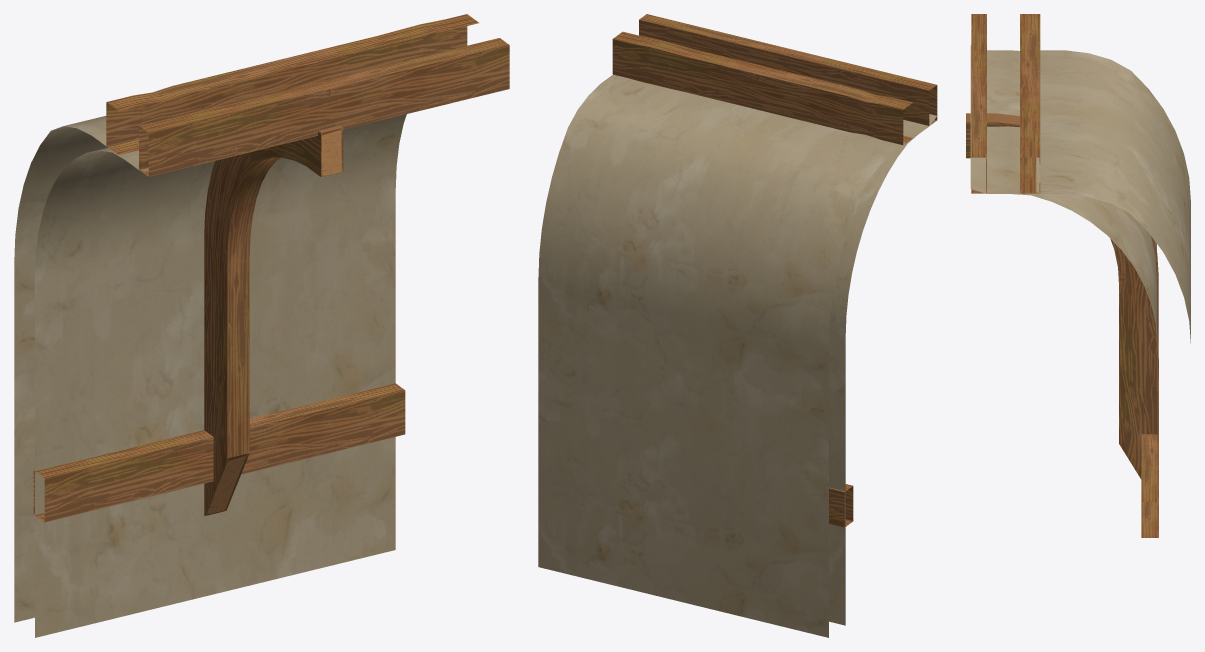
File: overhang_plaster_short.glb
3 views of the same model, side by side, from view 1: azimuth 30°, elevation 25°; view 2: azimuth 150°, elevation 25°; view 3: azimuth 270°, elevation 25° (orthographic). The views are drawn at different scales.
Parts seen in each view (by area): view 1: Overhang_Plaster_Short; view 2: Overhang_Plaster_Short; view 3: Overhang_Plaster_Short.
Boxes of the visible parts, <box> form: Overhang_Plaster_Short: <box>14,14,509,637</box>; Overhang_Plaster_Short: <box>538,14,937,637</box>; Overhang_Plaster_Short: <box>966,14,1190,537</box>.
Size of the model in its own units: 2 by 3.12 by 1.32.
Materials: 2 (2 with a texture image).
